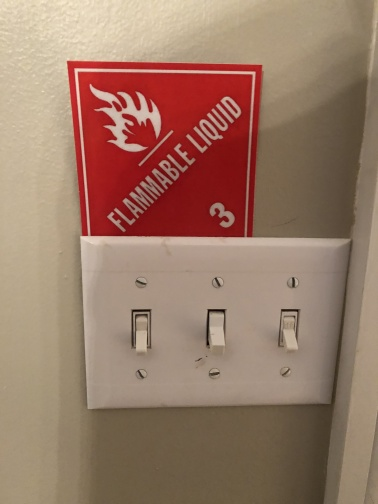FlammableLiquid: (68, 60, 254, 235)
